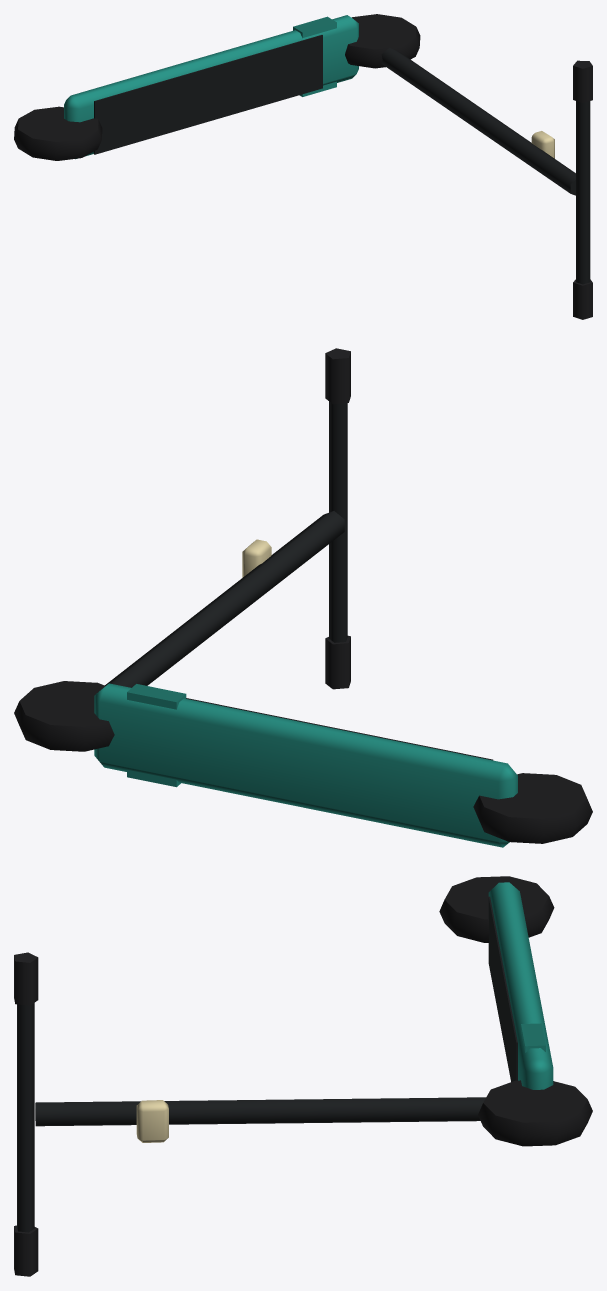
File: ScooterMIA.fbx
3 renders of one model, top to bottom at view 1: azimuth 30°, elevation 25°; view 2: azimuth 150°, elevation 25°; view 3: azimuth 270°, elevation 25°, orthographic. The views are drawn at different scales.
Parts seen in each view (by area): view 1: ScooterMIA; view 2: ScooterMIA; view 3: ScooterMIA.
Part boxes in pixels (x1,y1,x2,y2): ScooterMIA: (14,14,592,319); ScooterMIA: (14,348,592,847); ScooterMIA: (14,876,592,1276).
Bounding box in the file's own units: 1.13 × 0.66 × 1.1.
